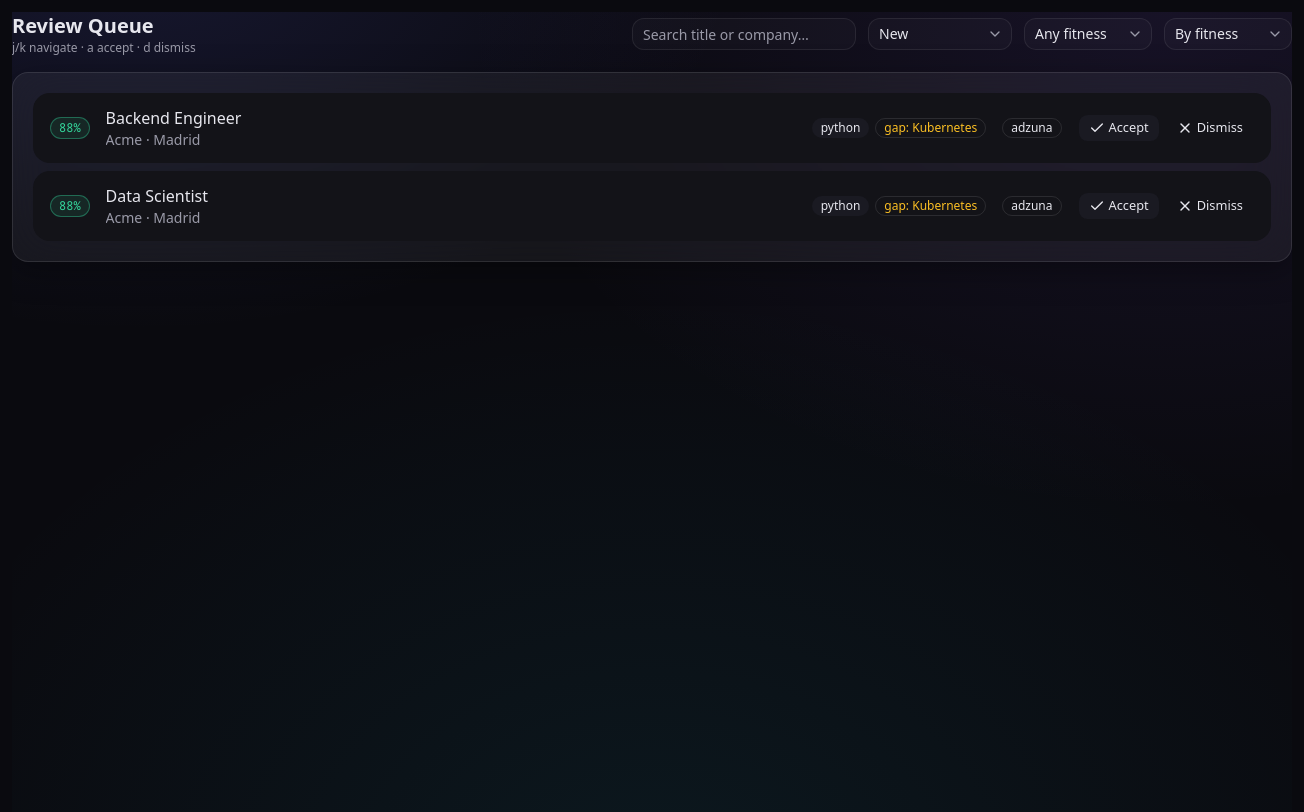
Scenario: text filter narrows the list client-side
The width and height of the screenshot is (1304, 812).
Expected: the link "Data Scientist" is shown, top-left (106, 185), bottom-right (208, 207)
Type "data" into the field with placeholder "Search title or company…". click: (744, 34)
box: top-left (632, 18), bottom-right (856, 50)
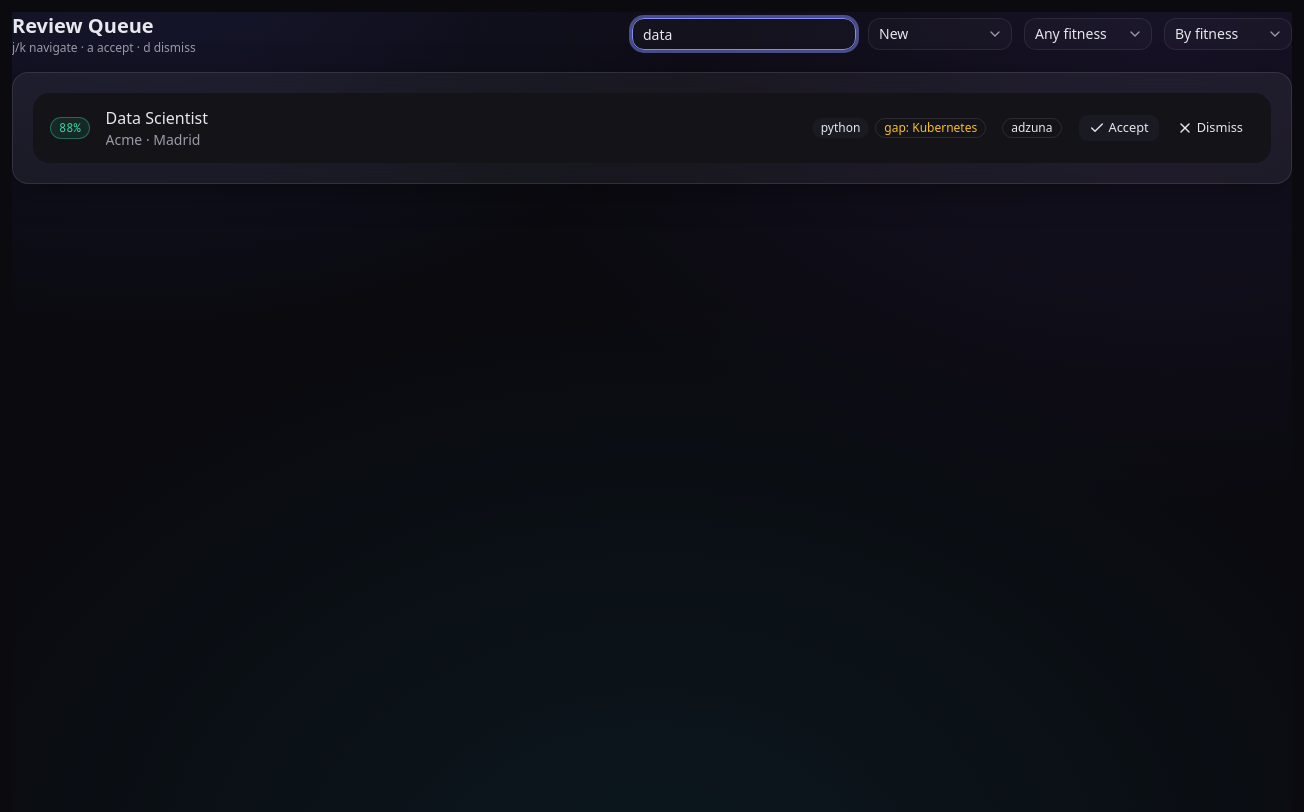
Expected: the link "Data Scientist" is shown, top-left (106, 107), bottom-right (208, 129)
Now the link "Backend Engineer" is gone
